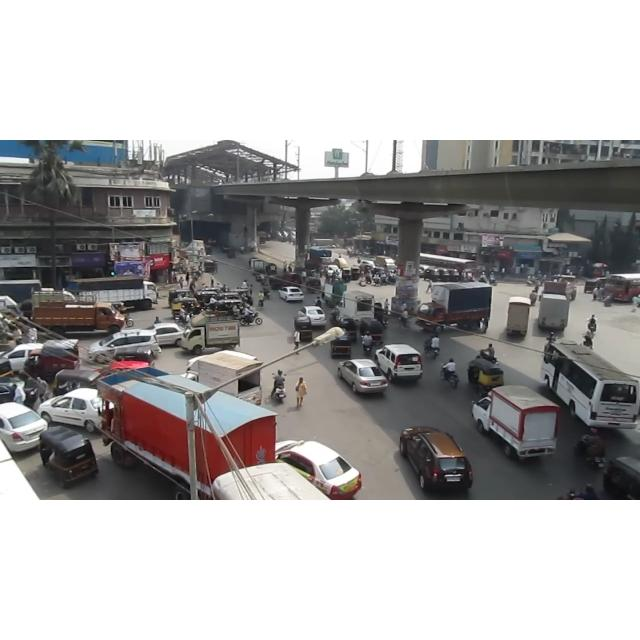auto: (40, 430, 105, 490), (466, 355, 510, 395), (328, 328, 355, 360), (294, 310, 316, 347), (363, 323, 389, 348)
car: (276, 440, 362, 500), (398, 426, 472, 490), (37, 388, 103, 432), (87, 329, 161, 363), (3, 399, 51, 450), (375, 343, 423, 381), (338, 359, 388, 393), (1, 343, 43, 371), (0, 379, 38, 409), (147, 322, 185, 346), (298, 305, 326, 327), (278, 286, 304, 302), (325, 264, 341, 276)
truck: (95, 368, 277, 500), (472, 386, 560, 458), (185, 350, 263, 406), (30, 291, 126, 335), (416, 279, 492, 330), (68, 276, 159, 310), (180, 313, 240, 355), (537, 294, 571, 330), (339, 290, 375, 322), (507, 301, 533, 339), (542, 280, 576, 300), (322, 281, 346, 307), (308, 247, 332, 264), (374, 256, 396, 271), (247, 256, 267, 272), (255, 231, 269, 245)
